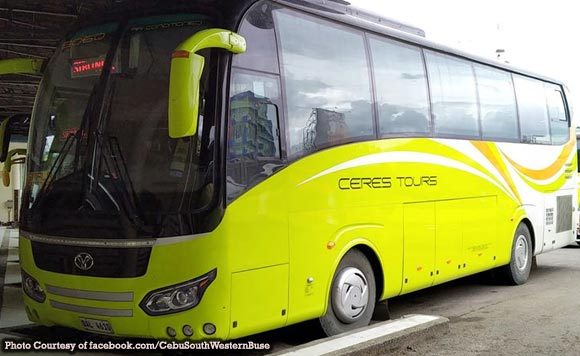bus: (20, 1, 580, 341)
